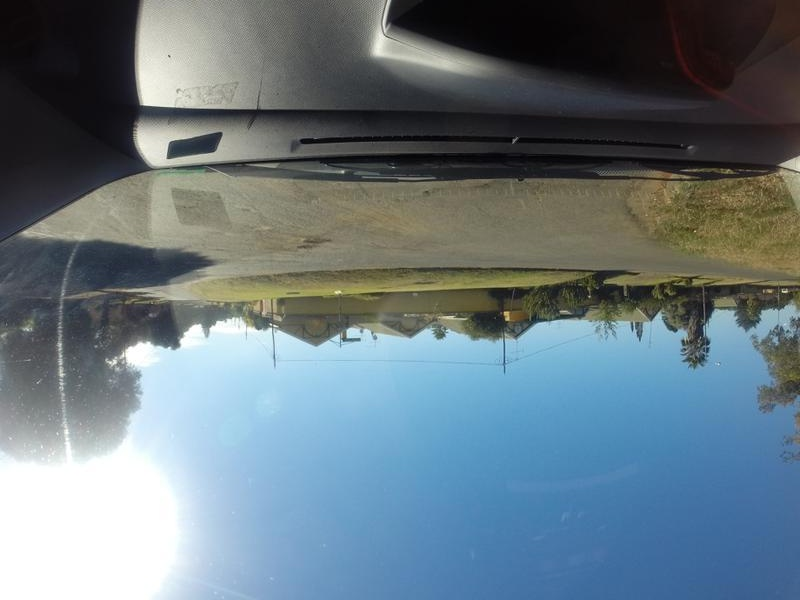pothole: (282, 220, 335, 266)
